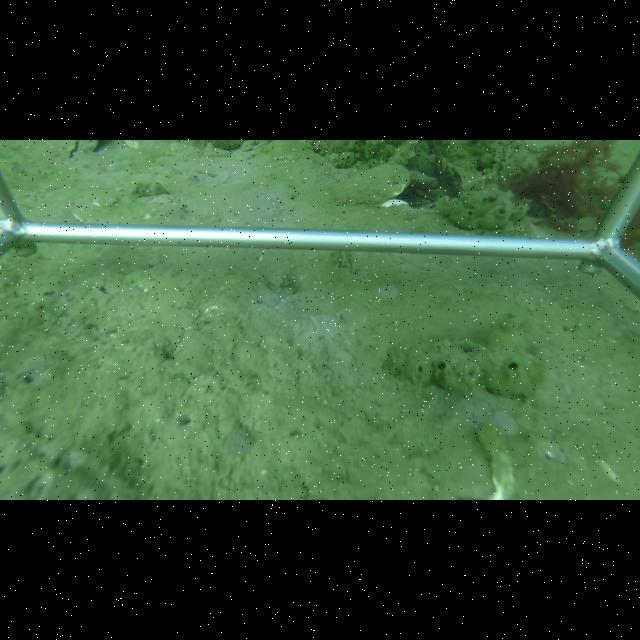Oyster-Closed: (332, 161, 413, 208)
